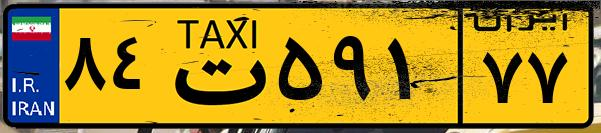1: (385, 28, 445, 110)
4: (110, 28, 158, 98)
5: (270, 28, 330, 110)
7: (475, 38, 525, 113), (525, 38, 570, 115)
8: (57, 26, 110, 100)
9: (330, 28, 385, 110)
ت: (158, 12, 270, 120)
